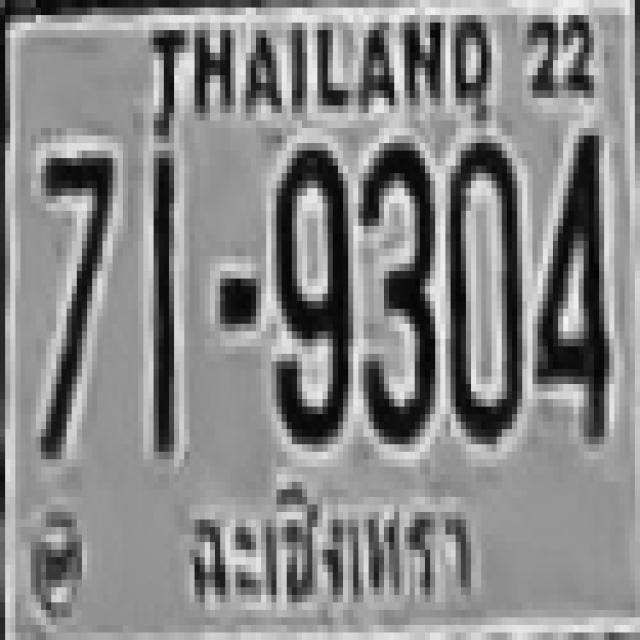0: (446, 136, 517, 437)
1: (149, 150, 174, 437)
3: (358, 136, 430, 437)
4: (533, 128, 604, 437)
7: (38, 150, 110, 452), (41, 151, 113, 414), (41, 150, 107, 347)
9: (272, 143, 348, 437)
Chachoengsao: (177, 474, 484, 622)
